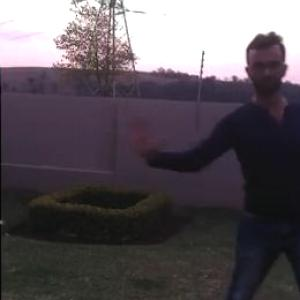follow_hand: (122, 105, 165, 159)
